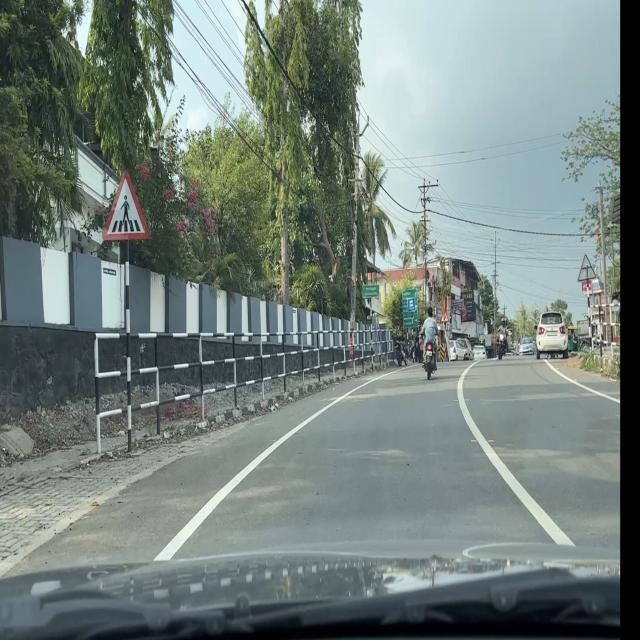GENERAL: (362, 284, 380, 298)
INFORMATION: (408, 298, 415, 311)
PEDESTRIAN_CROSSING: (102, 168, 150, 242)
